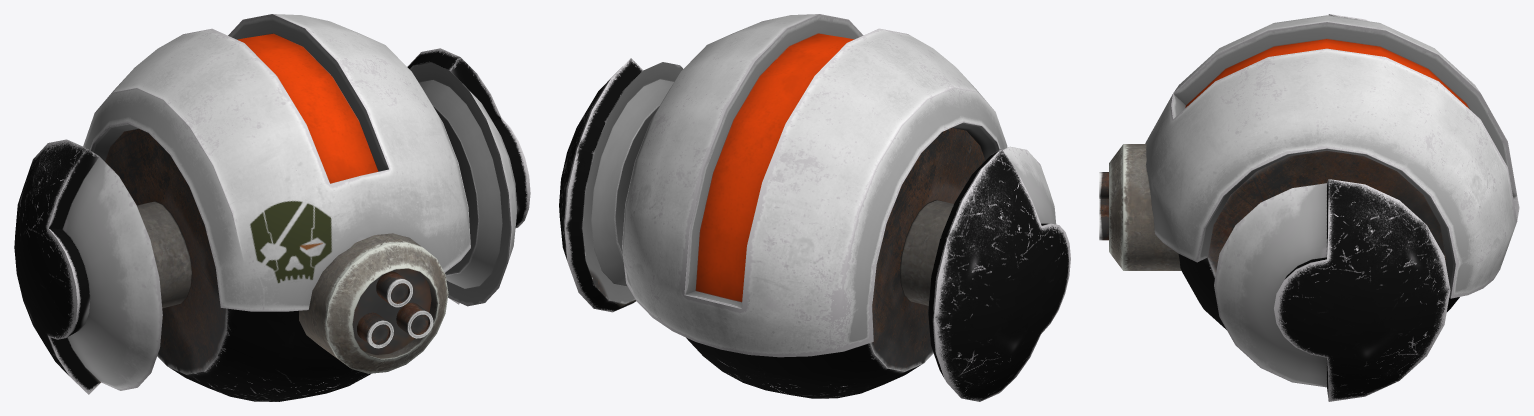
File: Drone.Obj
3 views of the same model, side by side, from view 1: azimuth 30°, elevation 25°; view 2: azimuth 150°, elevation 25°; view 3: azimuth 270°, elevation 25° (orthographic). The views are drawn at different scales.
Visible parts, largest first — view 1: Drone; view 2: Drone; view 3: Drone.
Part boxes in pixels (x1,y1,x2,y2): Drone: (14,14,530,401); Drone: (559,14,1070,401); Drone: (1099,14,1519,401).
Bounding box in the file's own units: 3.06 × 2.19 × 2.63.
1 material, 1 textured.
